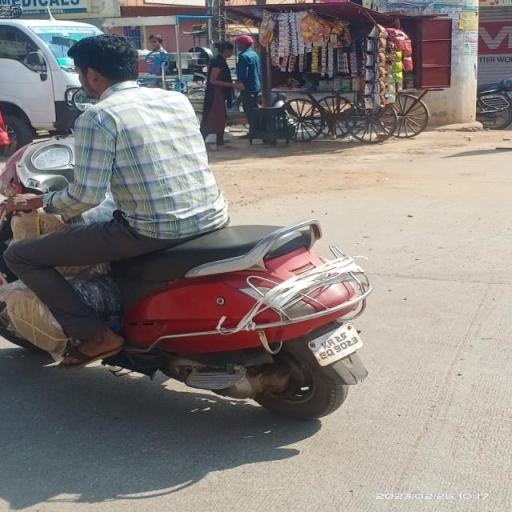bike: (2, 31, 380, 423)
numberplate: (298, 312, 364, 374)
withouthelmet: (75, 36, 139, 89)
